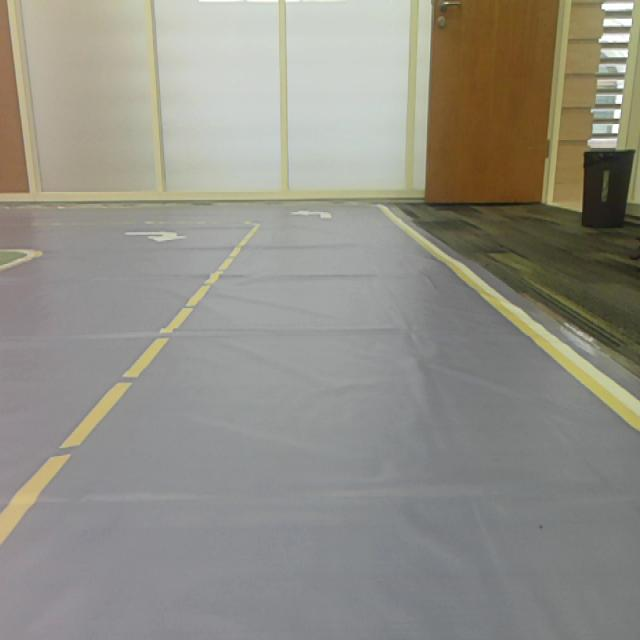left_lane: (0, 231, 254, 545)
right_lane: (390, 218, 640, 435)
